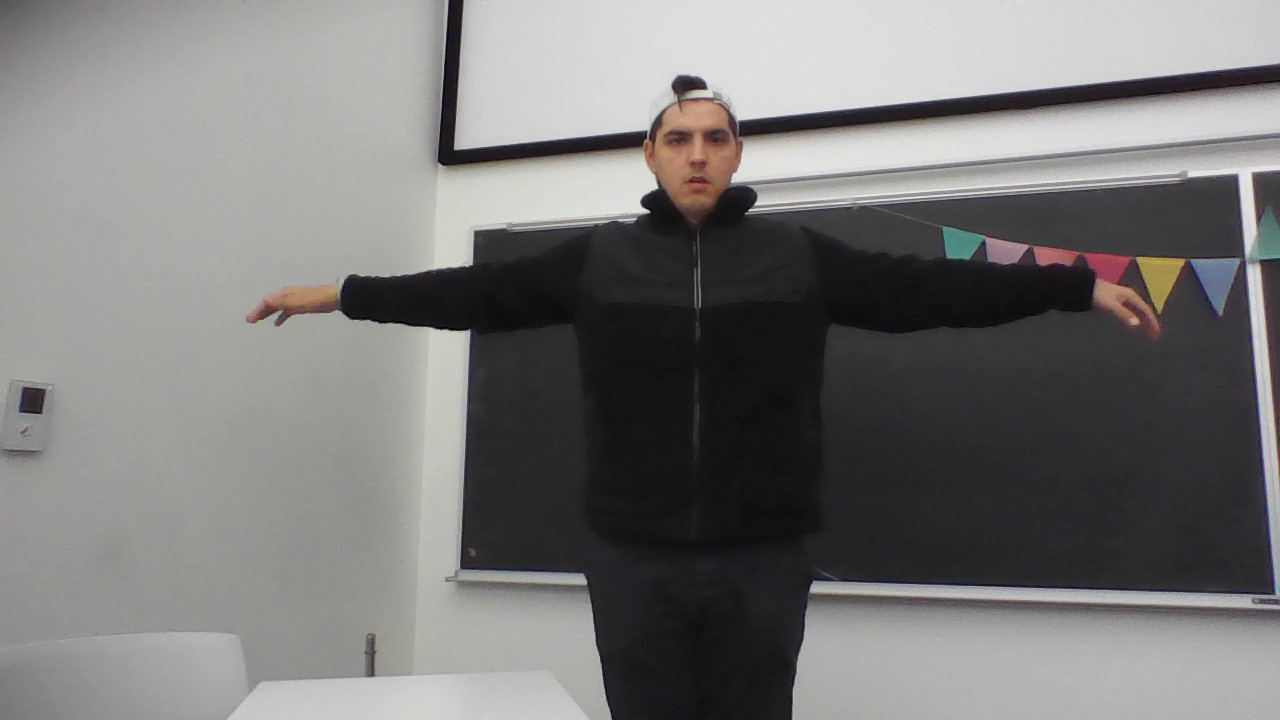height_frame: (540, 67, 865, 712)
hip_frame: (580, 530, 831, 562)
shoulder_frame: (567, 220, 806, 254)
waist_frame: (588, 412, 830, 444)
